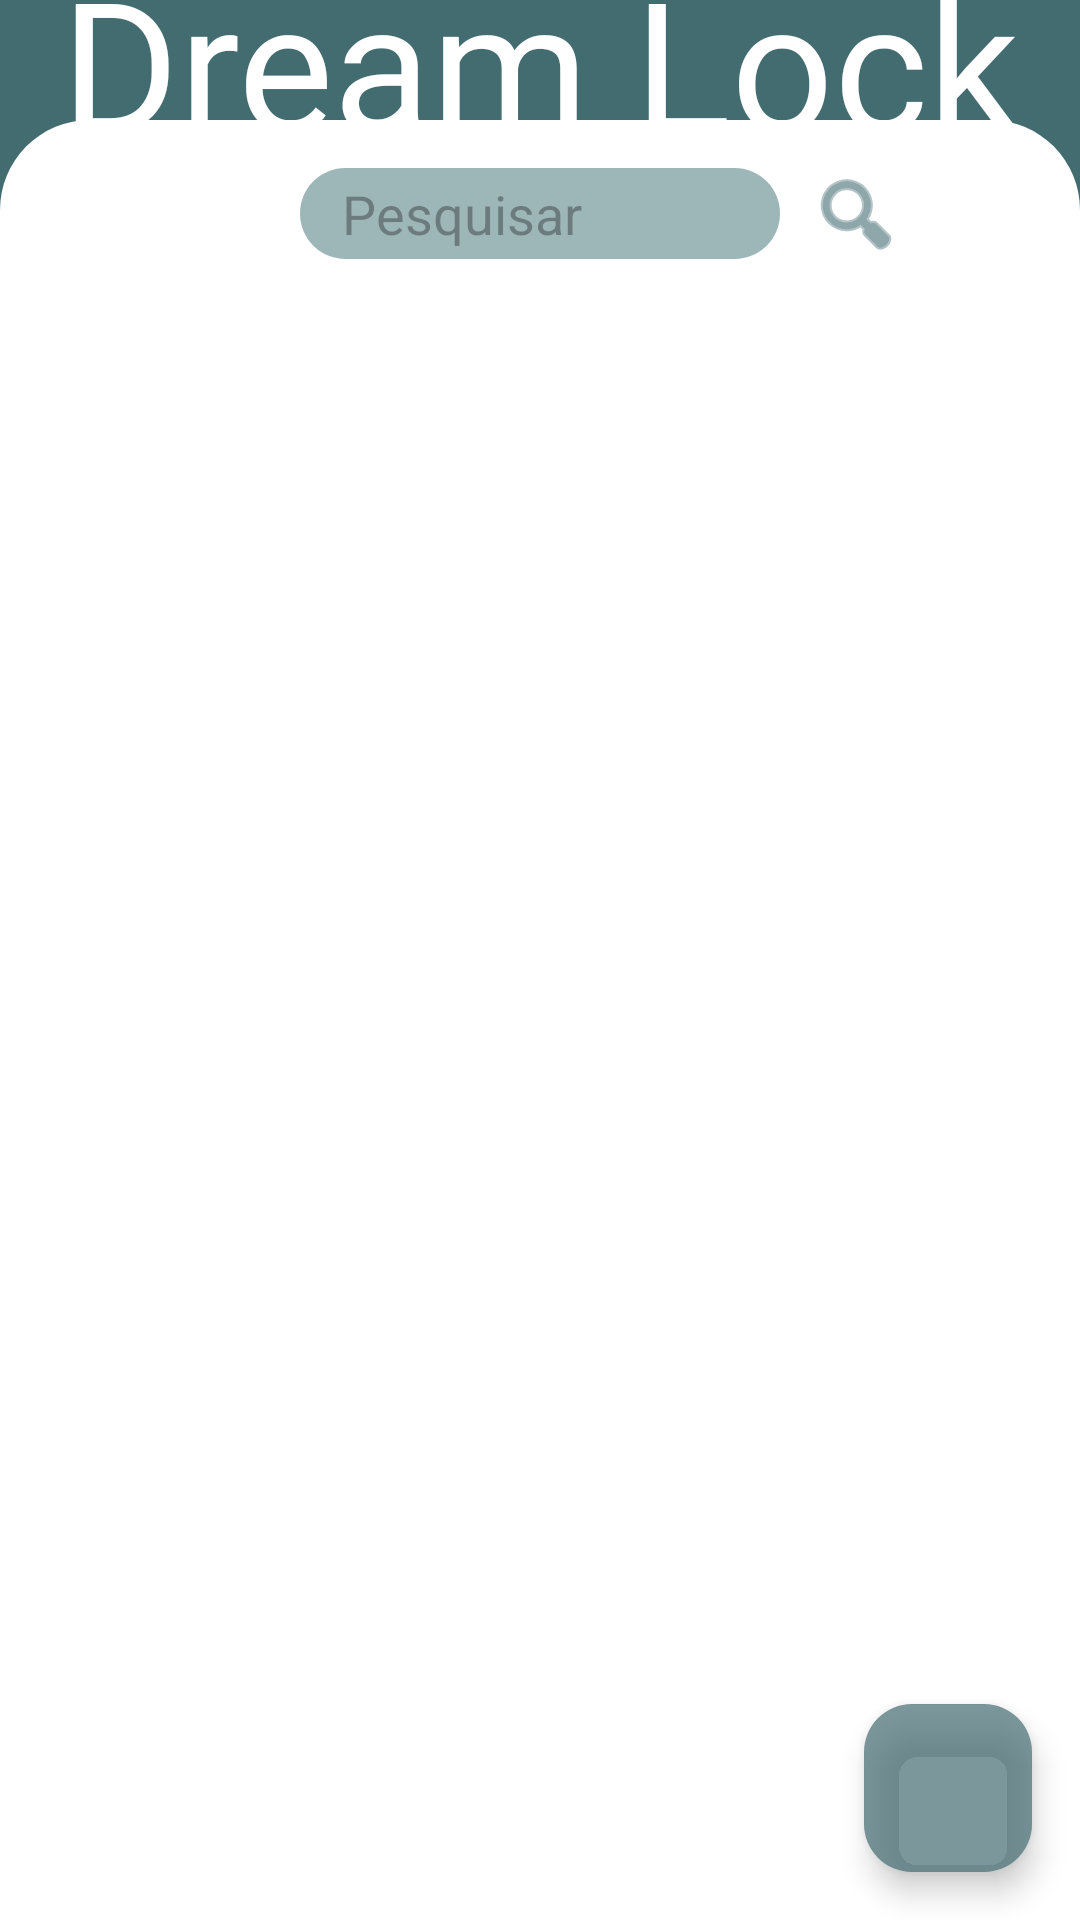

Screen size 1080 x 1920. Icon name, then its box in pixels as (x1, y1, x2, y2):
search: (821, 179, 891, 250)
